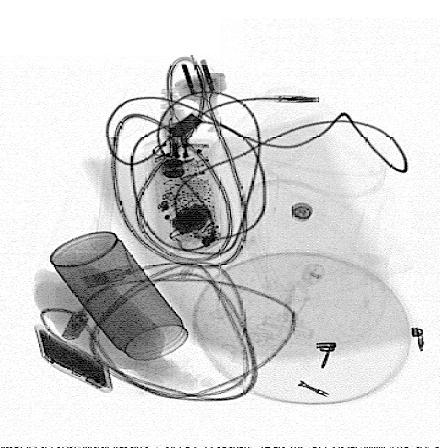Powerbank: (34, 325, 112, 395)
